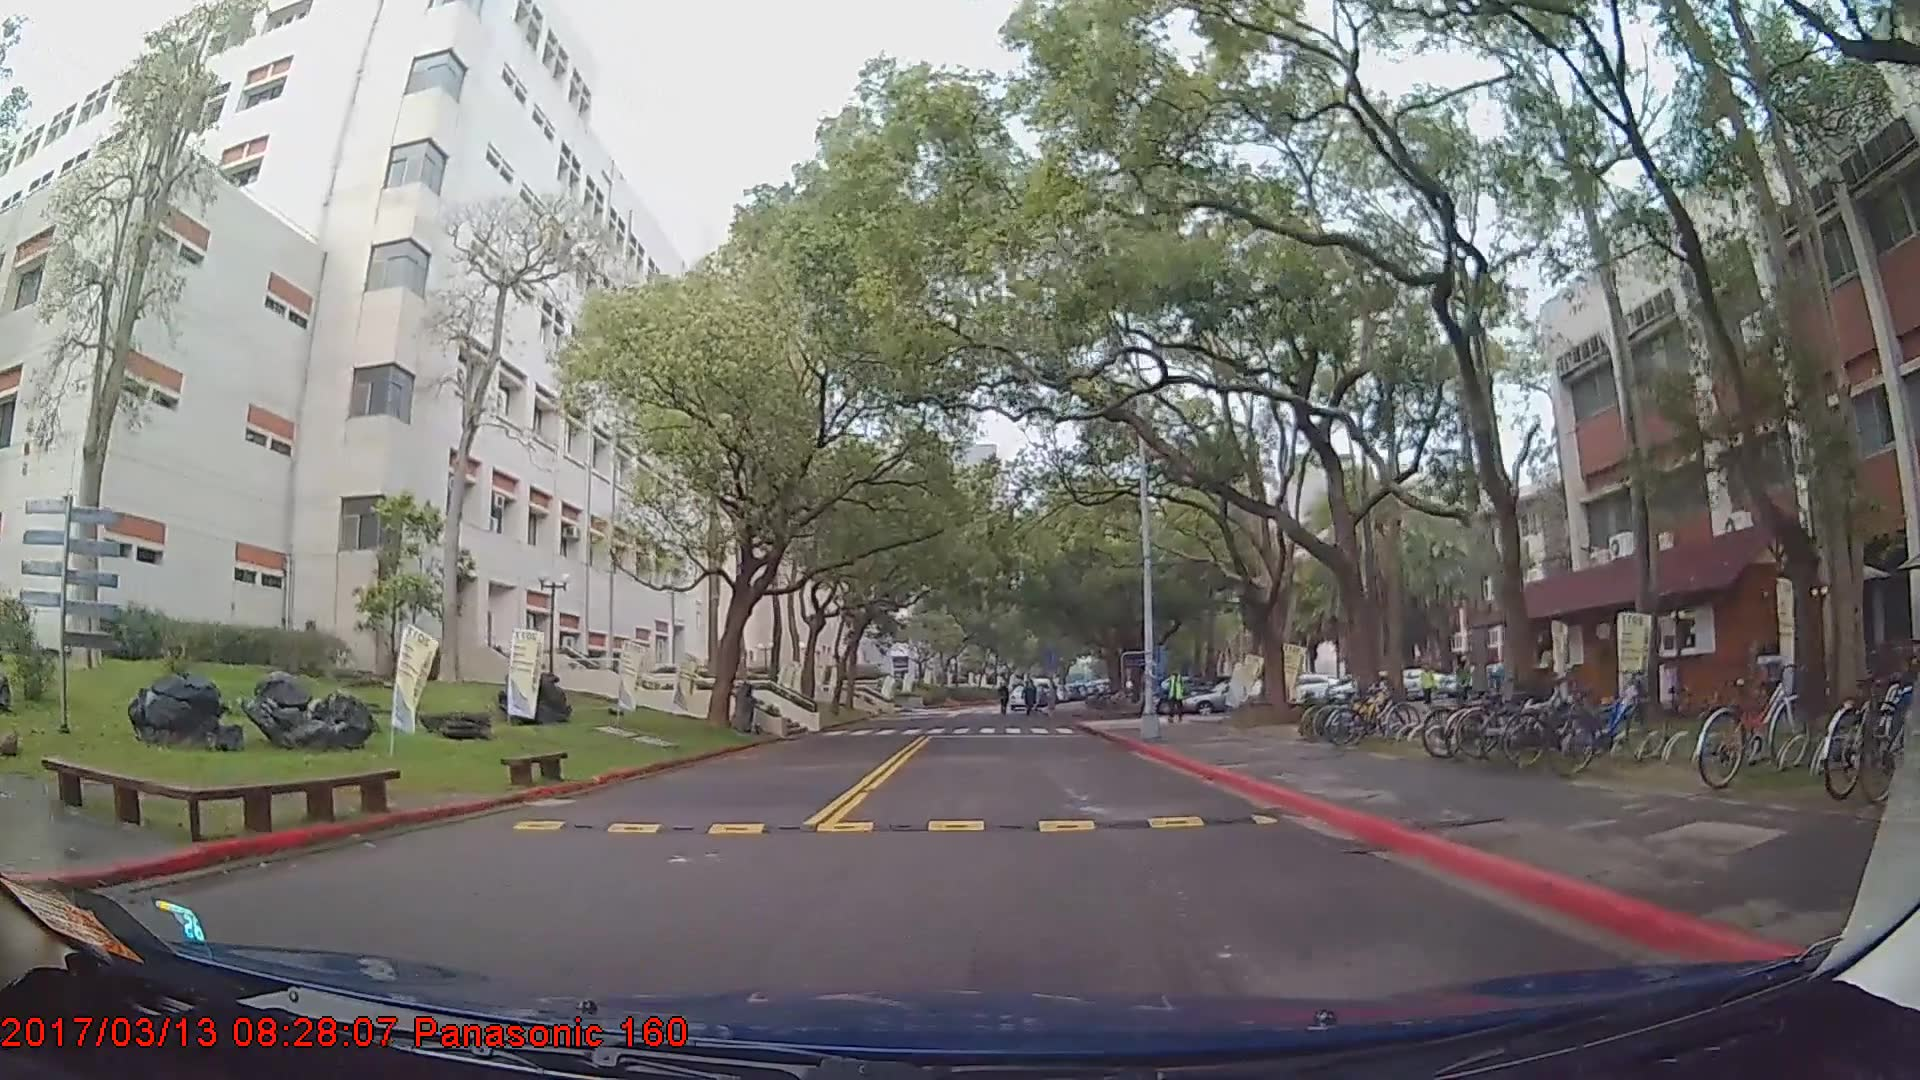vehicle: (1180, 678, 1274, 717)
